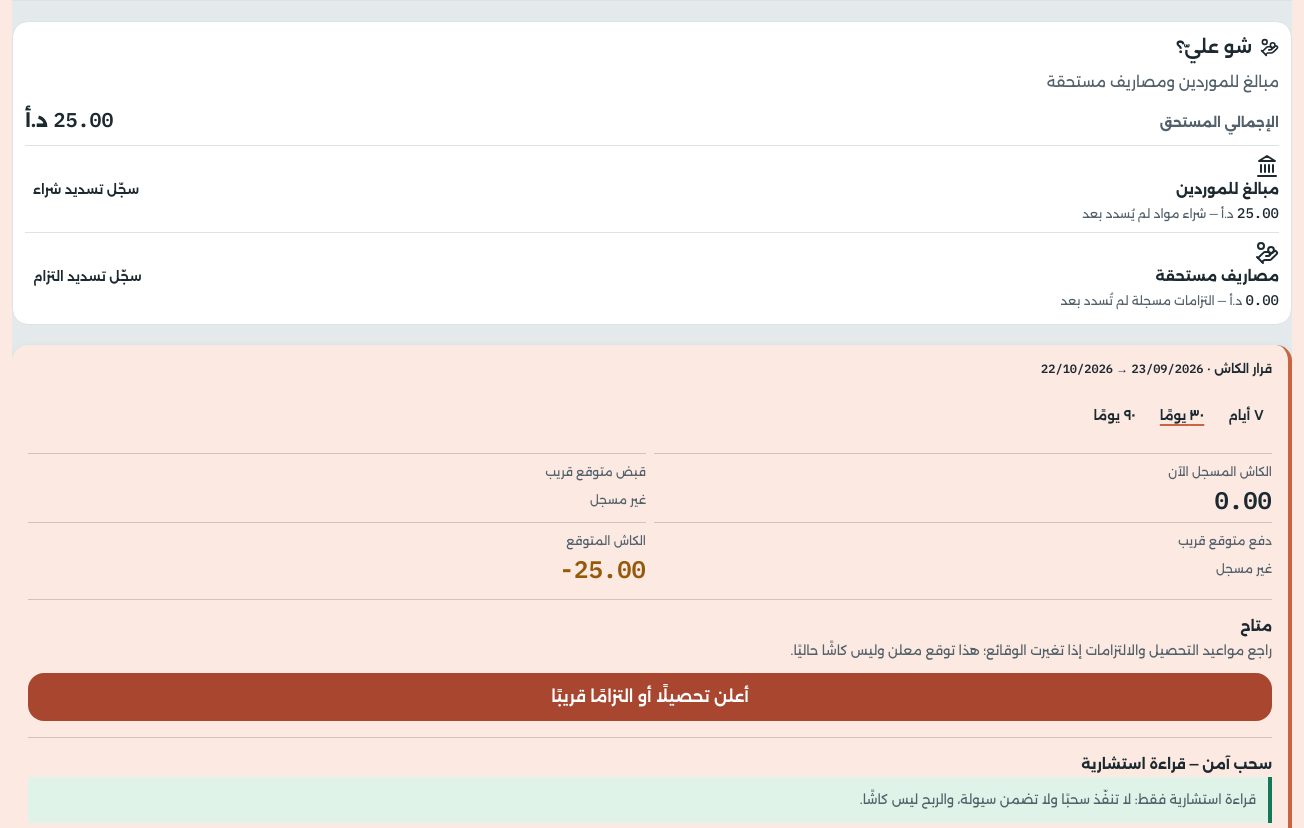
it: FIN-005 (WS-175 — Wave 3): short-cash horizon on the Finance cash decision › re-reads over the new horizon when switched — dated evidence moves with the window, honestly
The width and height of the screenshot is (1304, 828).
(page scrolled)
Expected: the text "دفع متوقع قريب" is shown, x1=1178 y1=533 x2=1272 y2=548
Click the button "٧ أيام".
click(1246, 415)  # box x1=1220 y1=393 x2=1272 y2=437
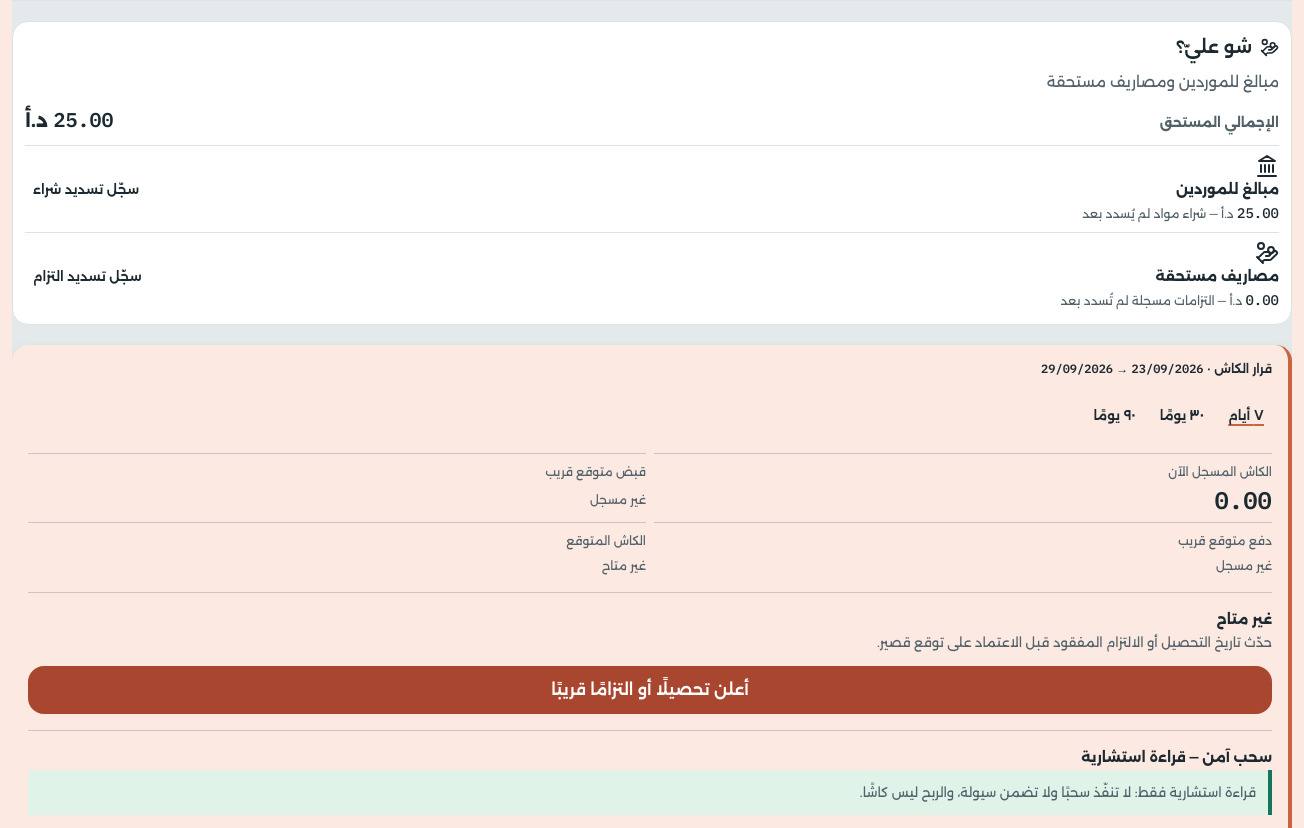
Expected: the text "29/09/2026" is shown, x1=1041 y1=361 x2=1113 y2=376
